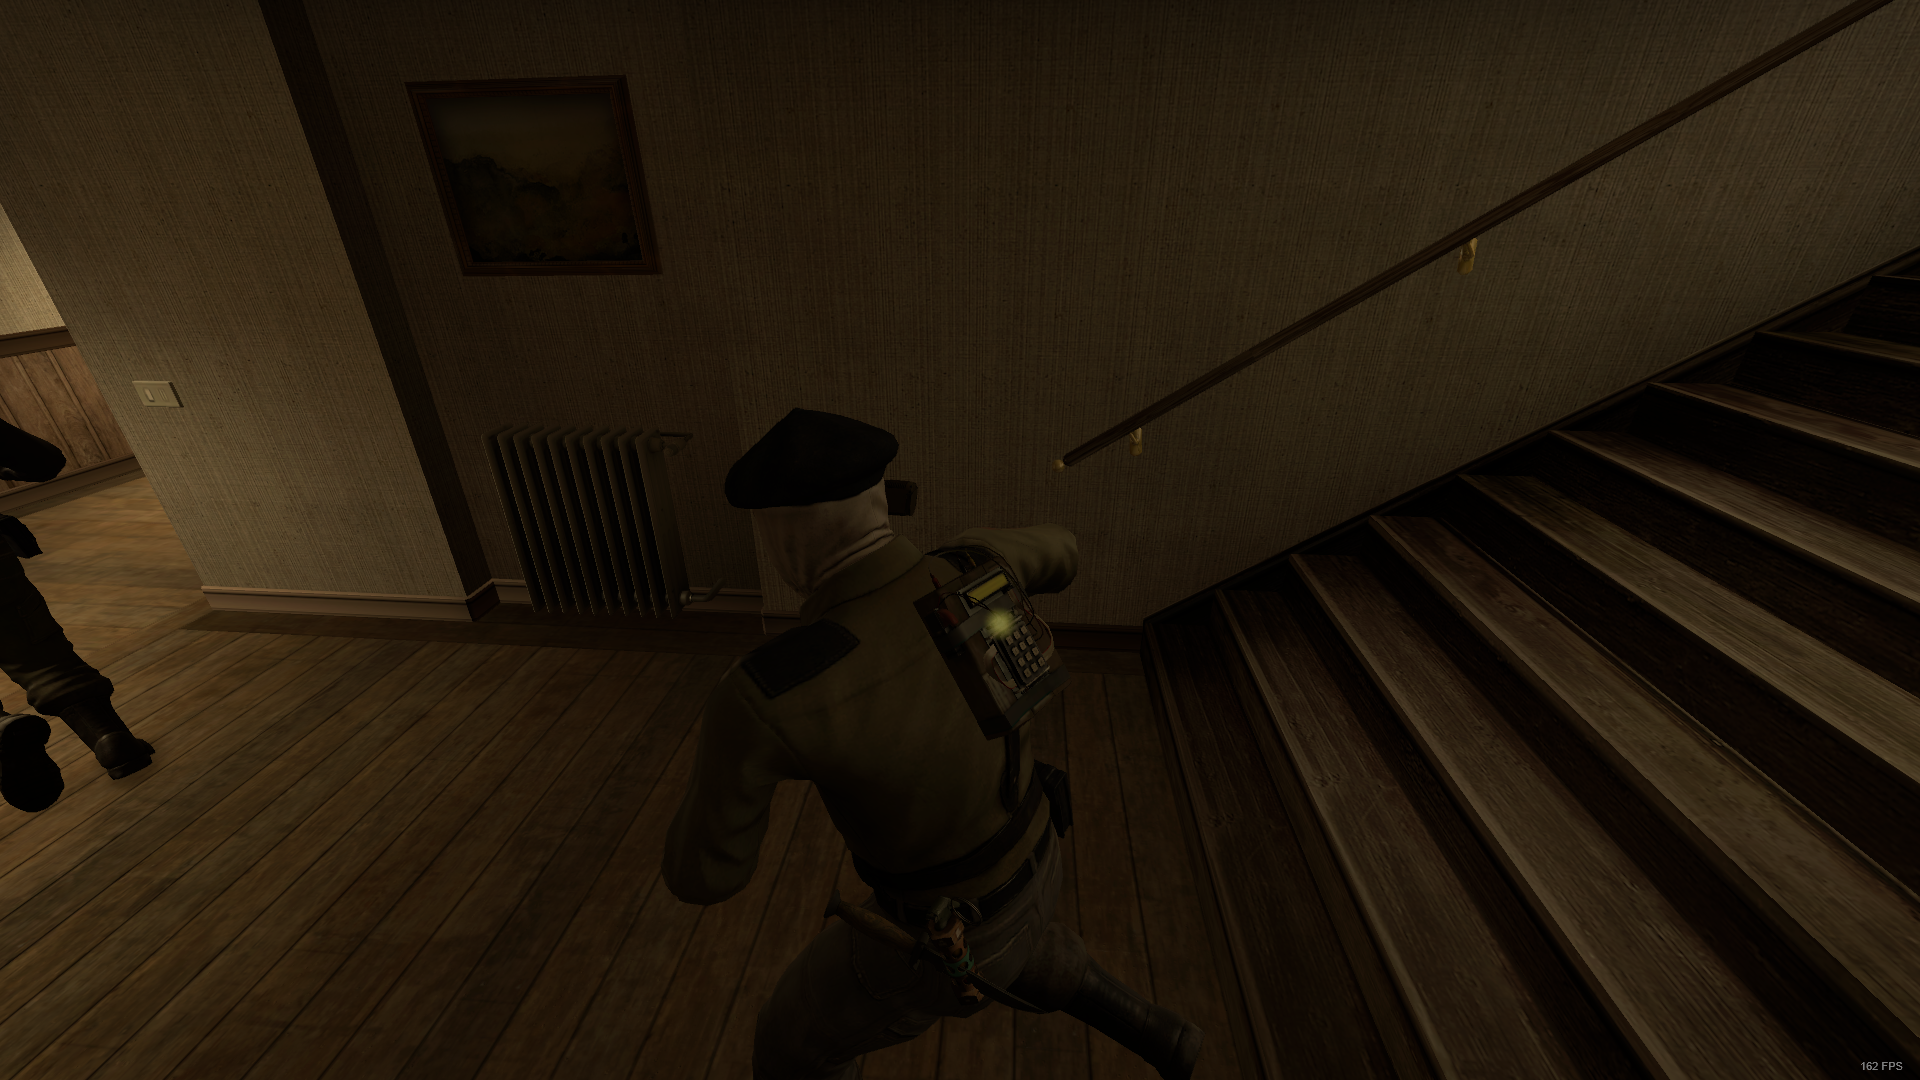t: (661, 407, 1200, 1080)
